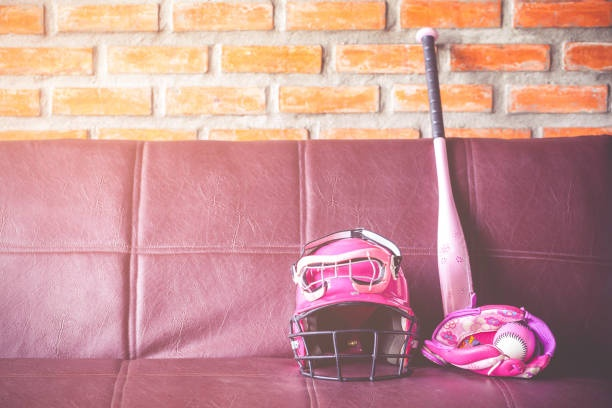bita: (417, 28, 481, 330)
